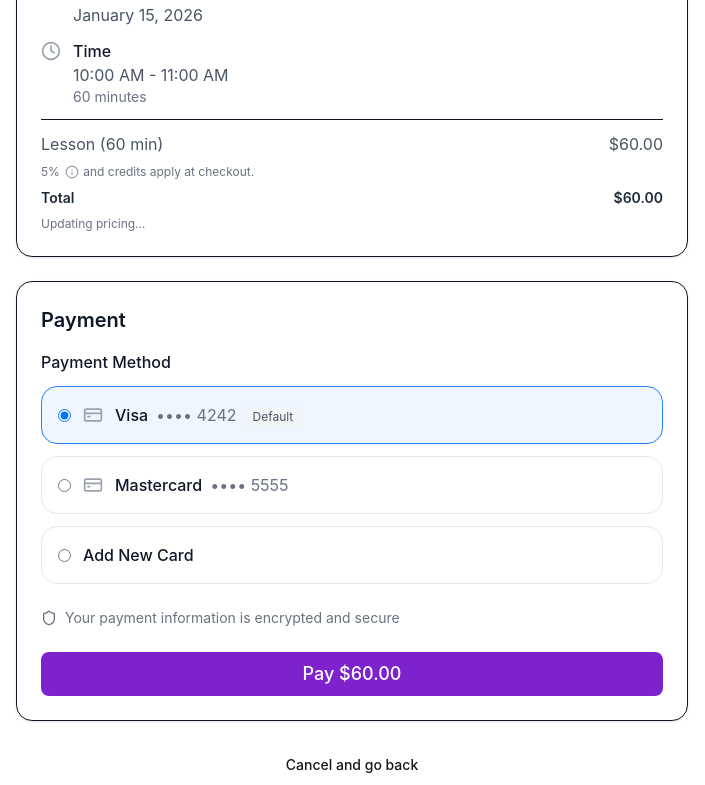
it: CheckoutFlow › Error Reset › clears error and resets payment status when try again is clicked
The width and height of the screenshot is (705, 785).
(page scrolled)
expect the text "Visa" is shown: met, box [115,405,148,425]
Click the button "Pay $60.00": (352, 674) [41,652,663,696]
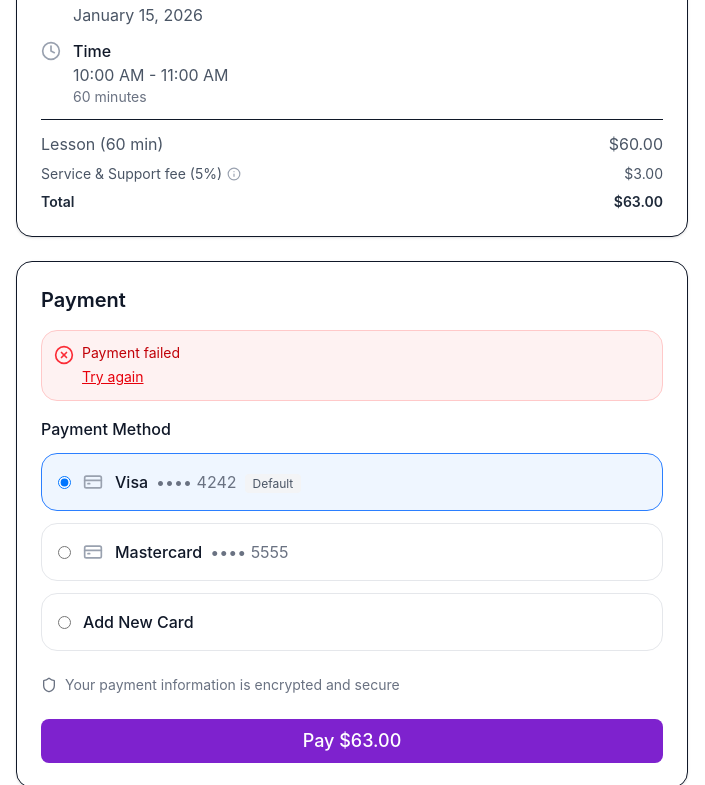
expect the text "Payment failed" is shown: met, box [82,344,180,361]
Click try again
Click the button "Try again": (113, 377) [82,367,144,387]
(page scrolled)
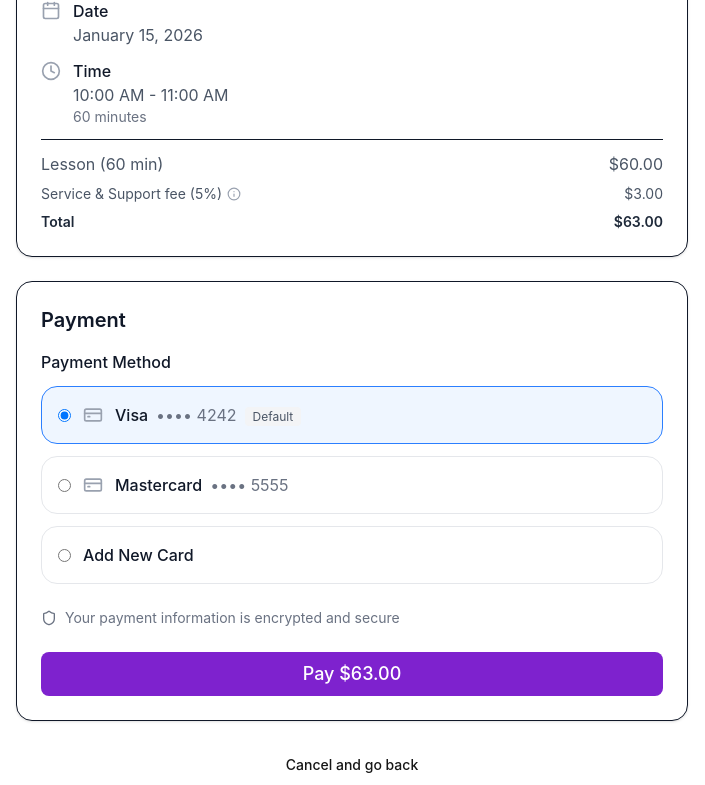
expect the text "Payment failed" is gone: met
